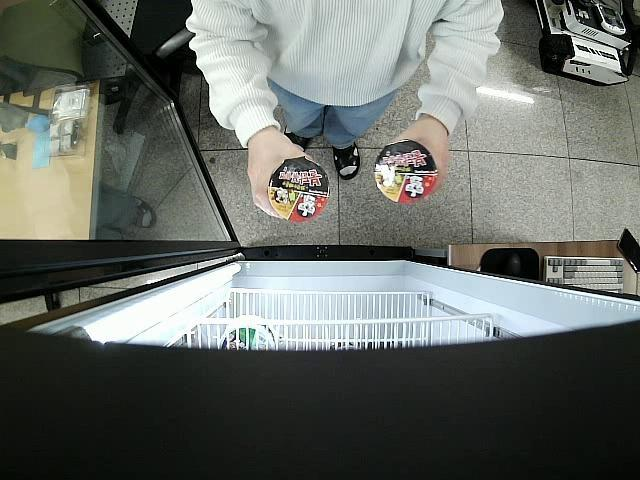08_buldak_S: (268, 157, 331, 222), (376, 142, 438, 204)
